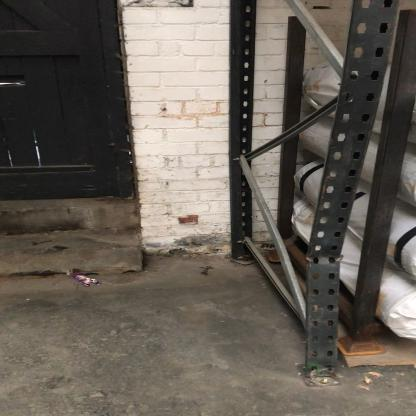vertical_damage: (293, 191, 356, 291)
